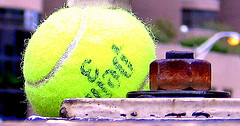tennis ball: (22, 5, 158, 116)
